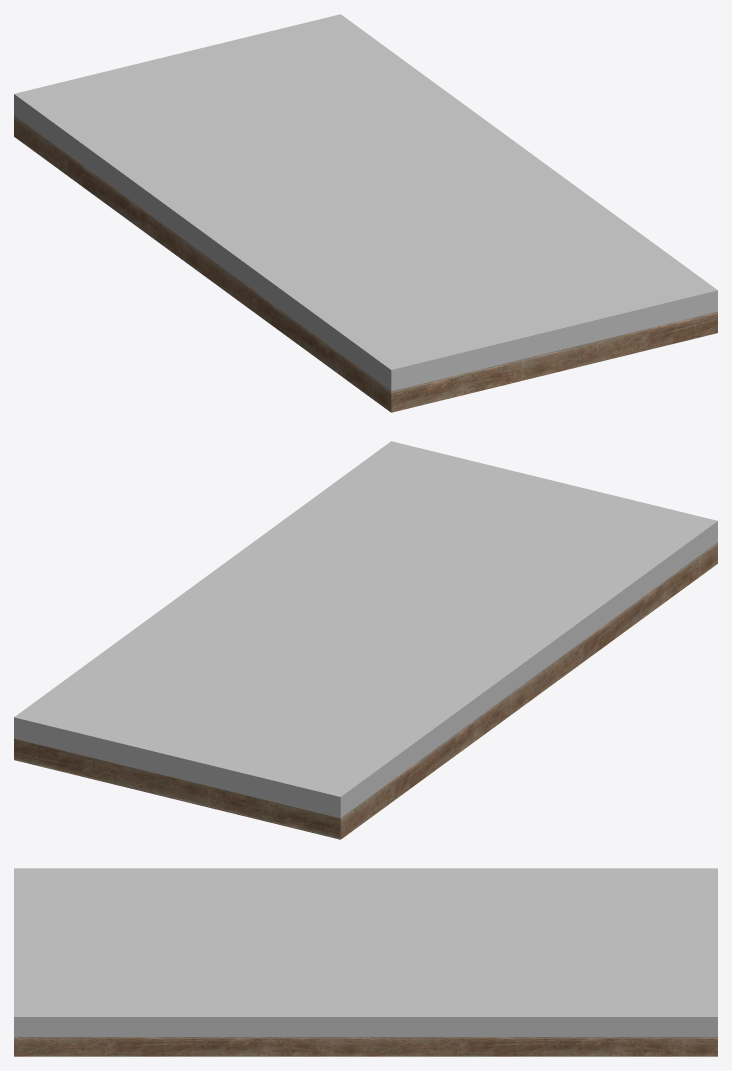
3 renders of one model, top to bottom at view 1: azimuth 30°, elevation 25°; view 2: azimuth 150°, elevation 25°; view 3: azimuth 270°, elevation 25°, orthographic. The views are drawn at different scales.
Parts seen in each view (by area): view 1: SM_Greathall_Floor_8x4_01_LOD0; view 2: SM_Greathall_Floor_8x4_01_LOD0; view 3: SM_Greathall_Floor_8x4_01_LOD0.
Part boxes in pixels (left/top/right/bottom): SM_Greathall_Floor_8x4_01_LOD0: left=14, top=14, right=717, bottom=412; SM_Greathall_Floor_8x4_01_LOD0: left=14, top=441, right=717, bottom=839; SM_Greathall_Floor_8x4_01_LOD0: left=14, top=868, right=717, bottom=1056.
Bounding box in the file's own units: 4 × 0.5 × 8.
